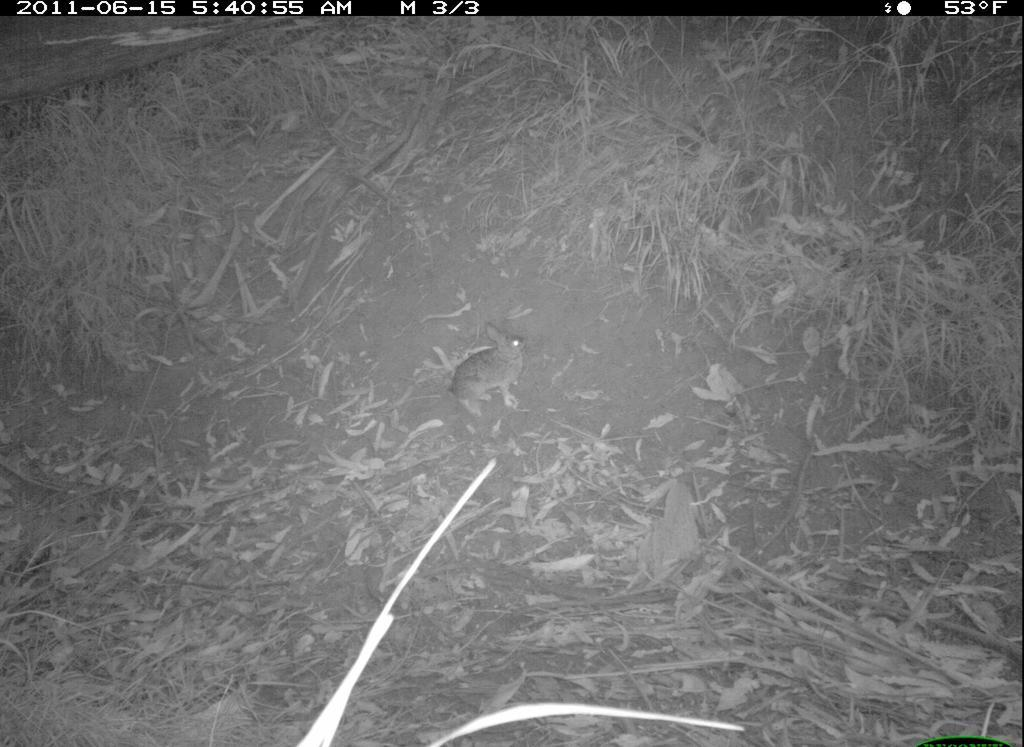rabbit: (447, 321, 537, 422)
